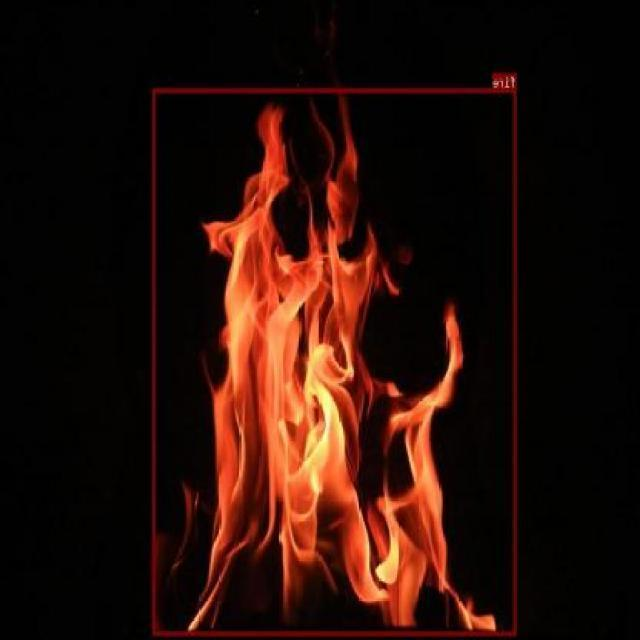Fire: (153, 88, 518, 636)
